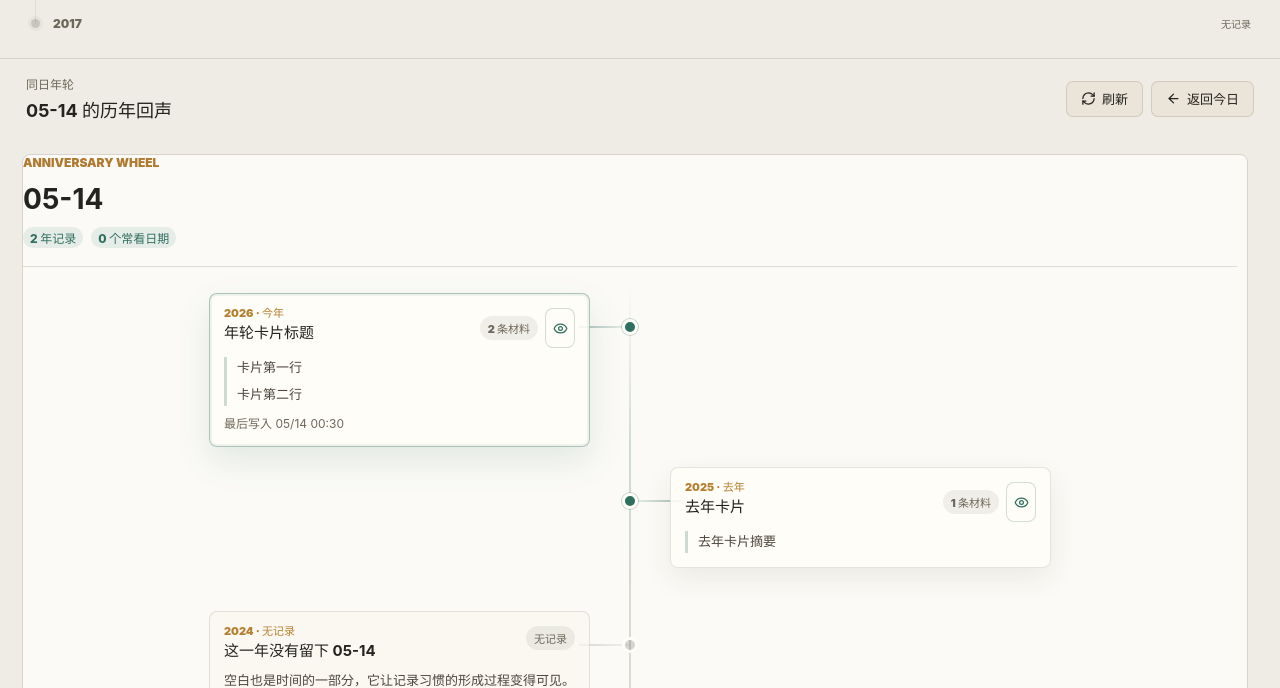
Test: AnniversaryWheelWorkbench › opens selected date markdown in reading mode and returns to timeline
(page scrolled)
Click the button named "阅读 2026-05-14 日记".
click(560, 328)  # box left=545, top=308, right=575, bottom=348
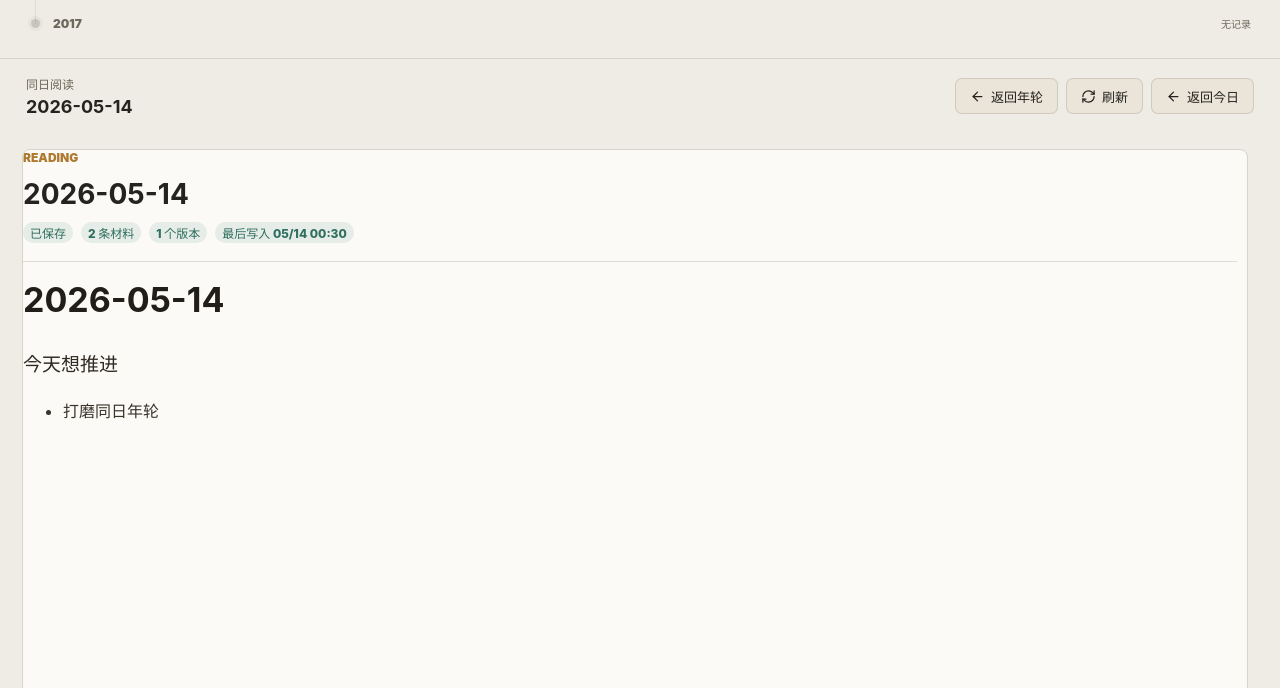
Expected: the element named "同日当前日记内容" is shown, left=23, top=279, right=224, bottom=421
Expected: the list item "打磨同日年轮" is shown, left=63, top=401, right=159, bottom=421
Expected: the heading "年轮卡片标题" is gone
Click the button "返回年轮".
click(1006, 96)  # box left=955, top=78, right=1058, bottom=114
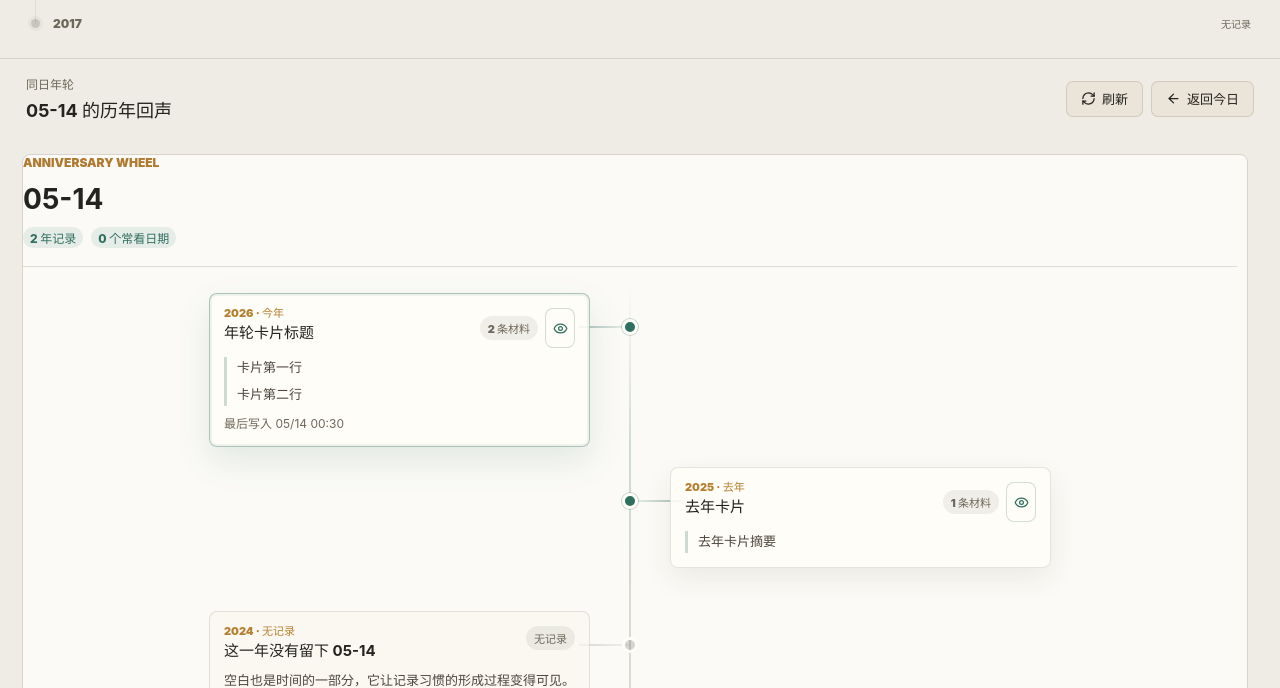
Expected: the heading "年轮卡片标题" is shown, left=224, top=323, right=314, bottom=342
